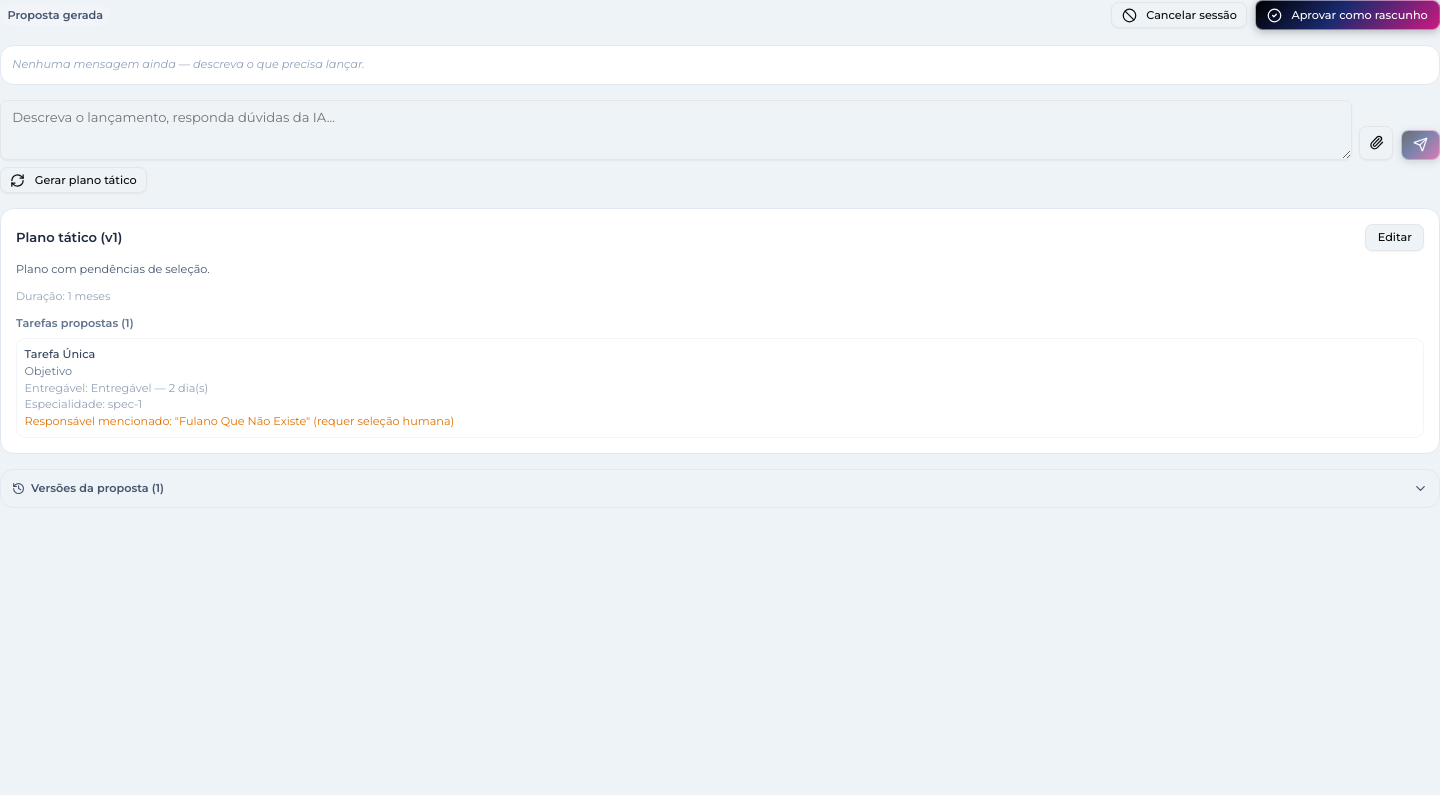
Test: LaunchSessionPanel › editor: sem permissão real (endpoint de opções falha/404) mostra erro claro e não trava a tela
Click the button "Editar" at (1395, 237), box [1366,224,1424,251]
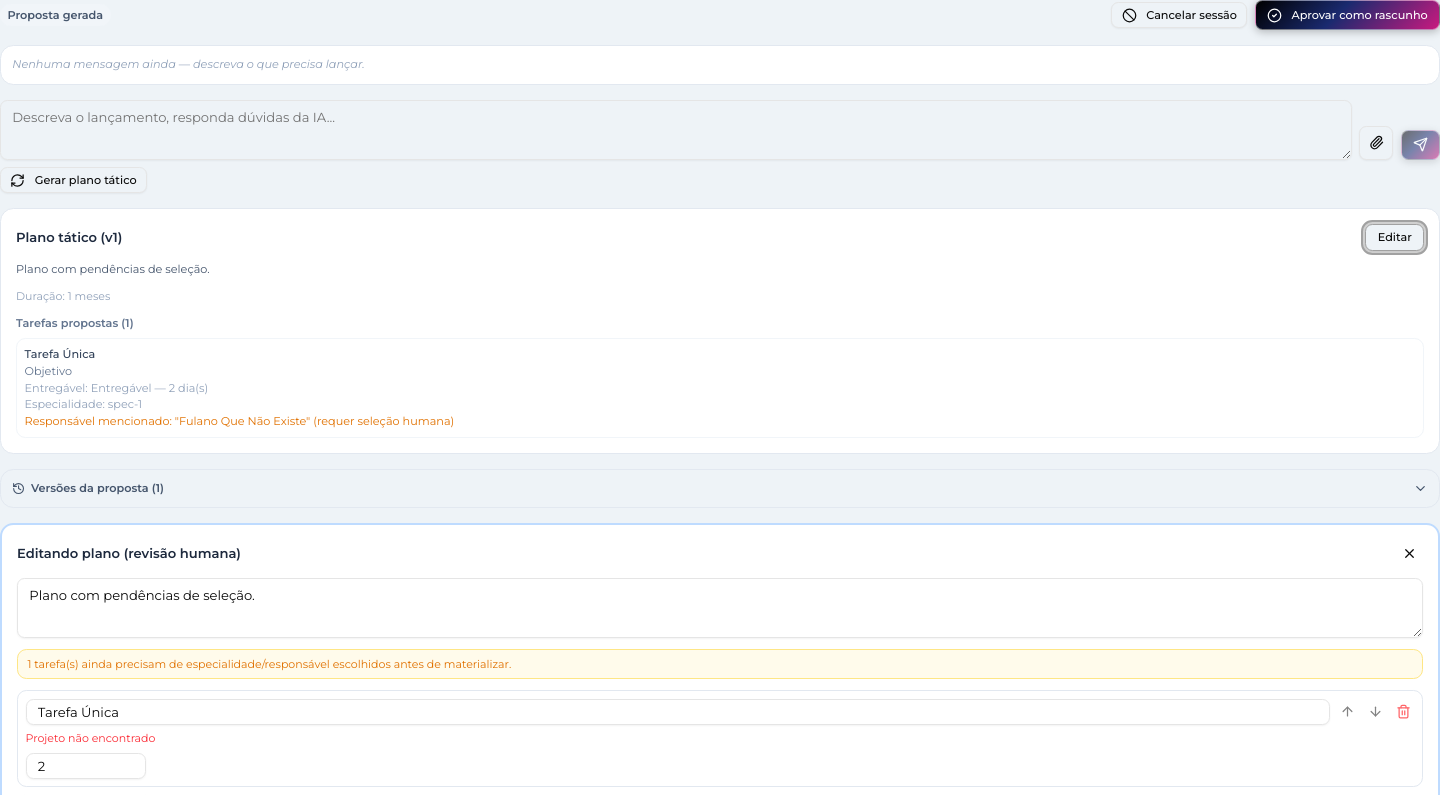
Now the text "Projeto não encontrado" is shown, box [26,731,156,745]
